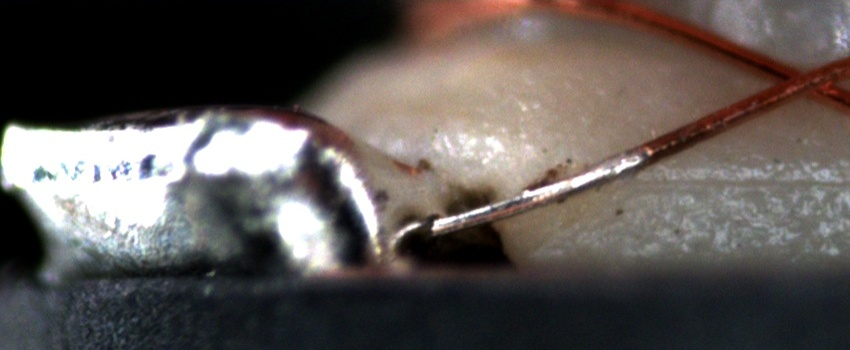CL: (757, 53, 842, 104)
DL: (631, 153, 850, 212)
TS: (422, 145, 649, 236)
